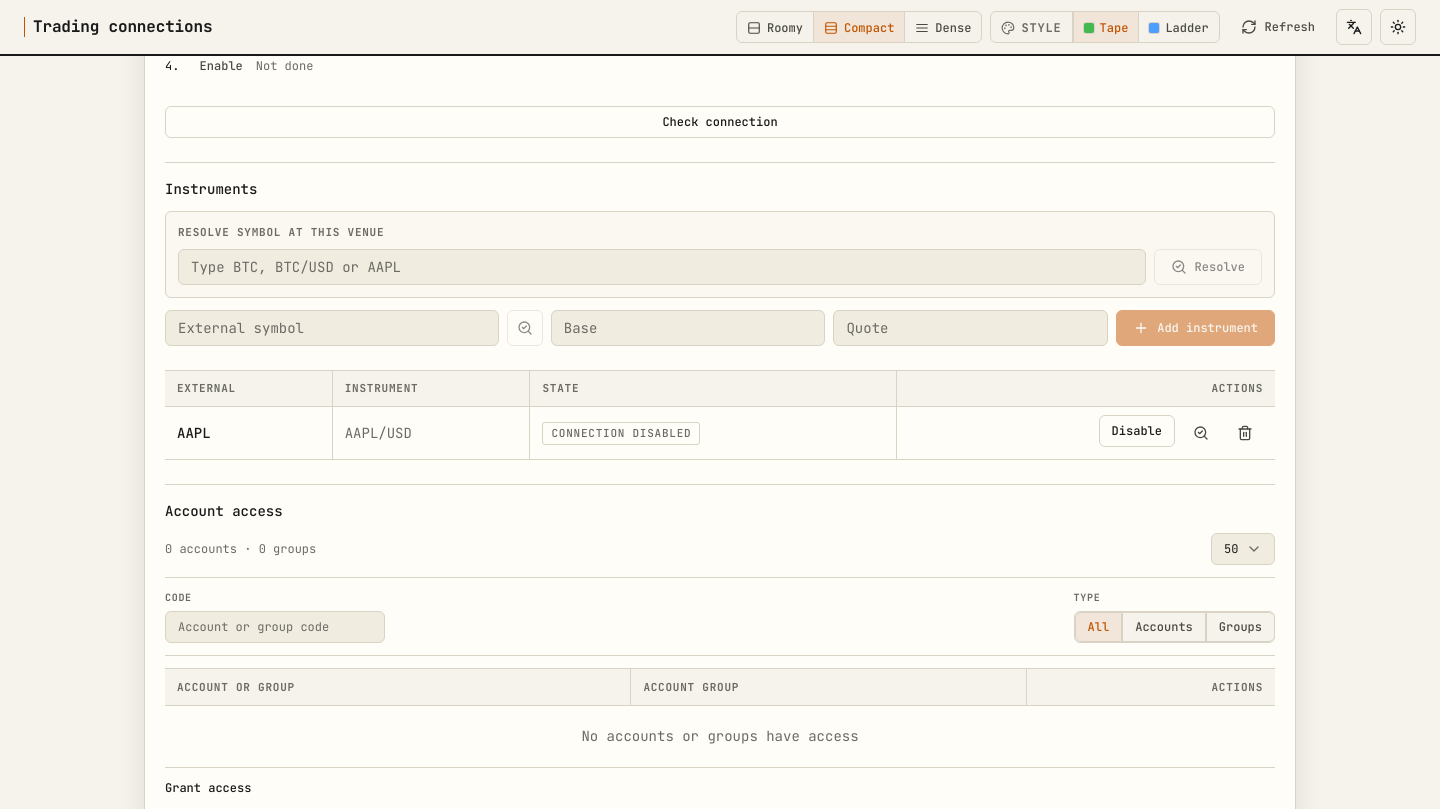
Scenario: Trading connections › forgets a failed row verdict when the deleted symbol is re-added
The image size is (1440, 809).
(page scrolled)
Click the button named "Verify symbol" in the row of "USD": (1201, 433) [1183,415,1219,451]
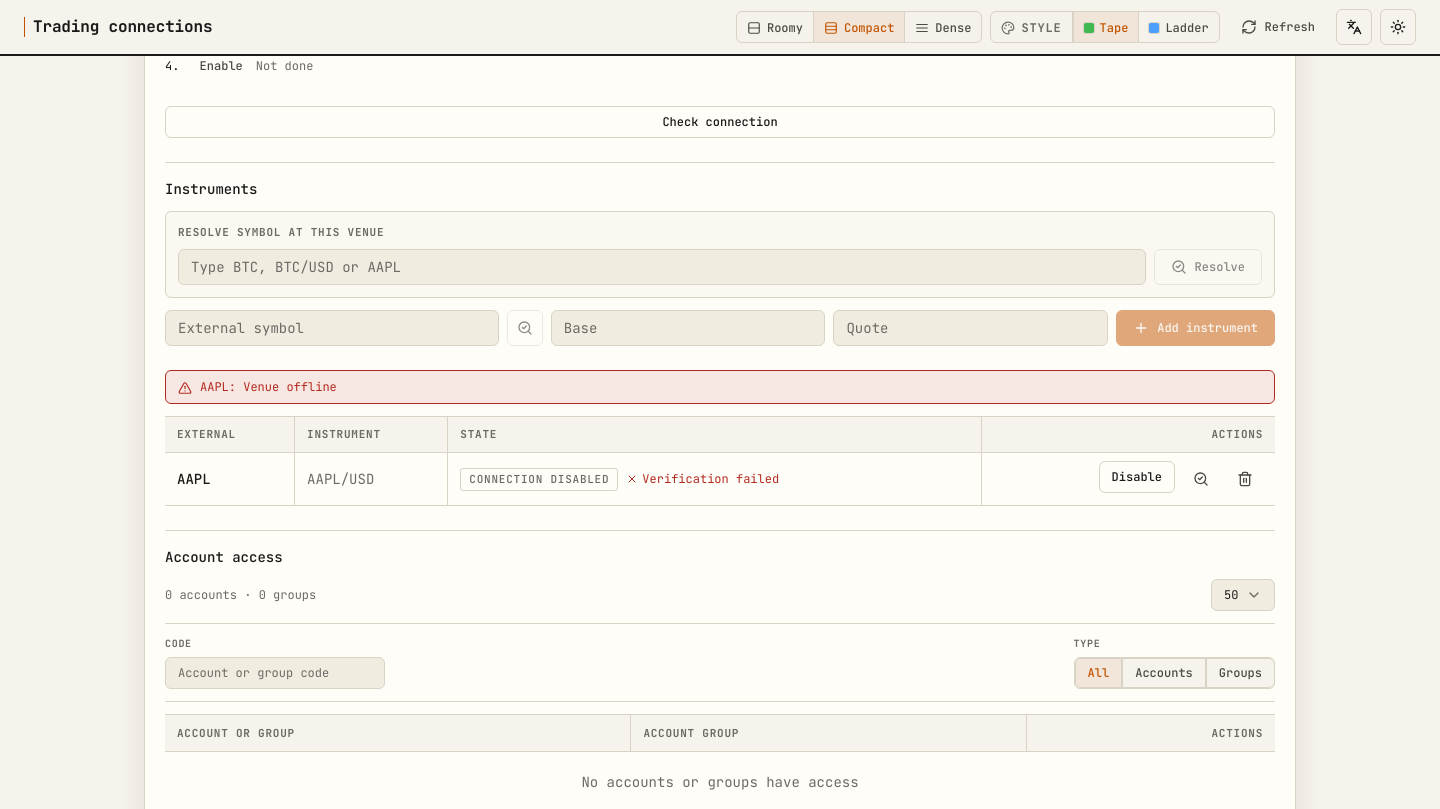
Check: the text "Verification failed" is shown, box [626,471,779,487]
Click the button named "Delete instrument": (1245, 479) [1227,461,1263,497]
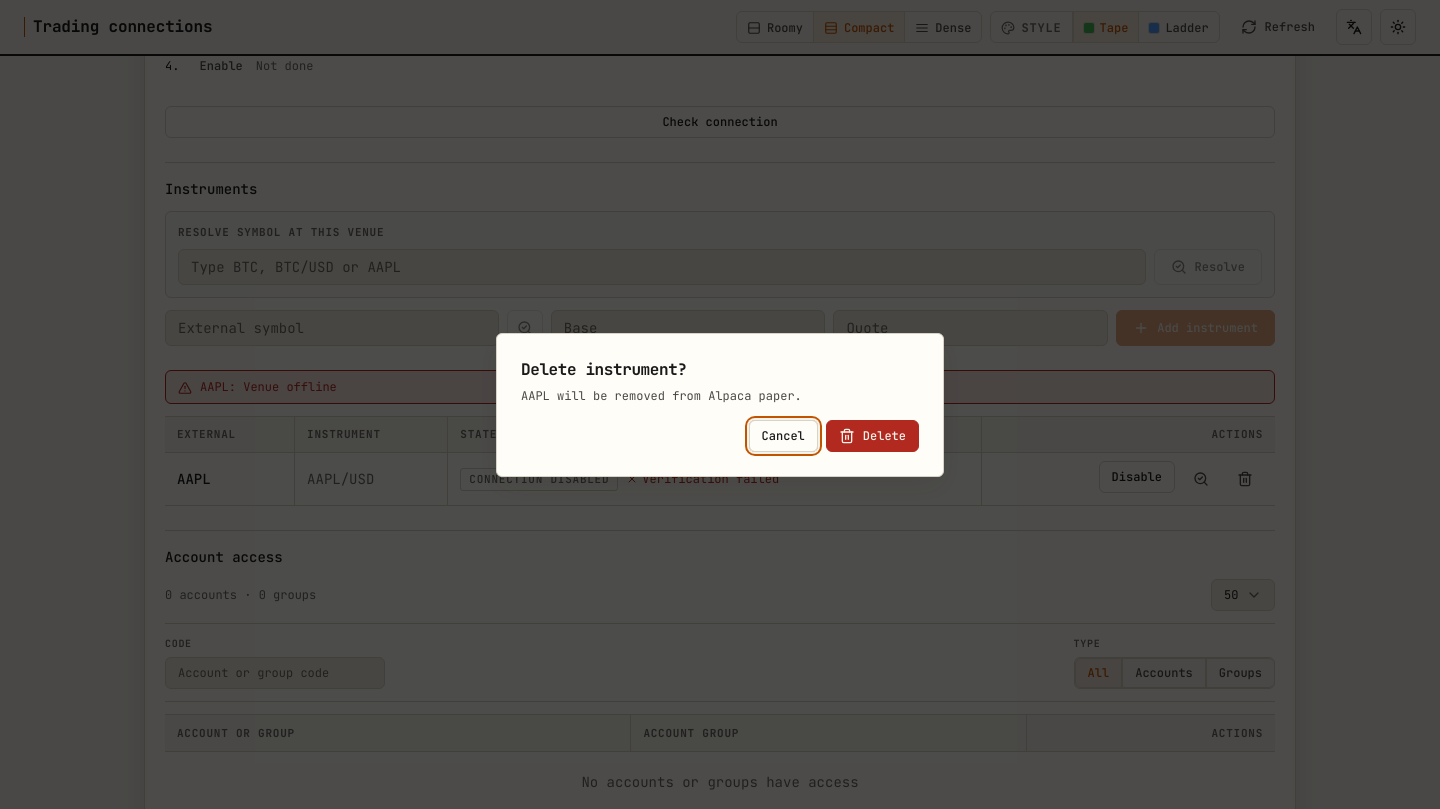
Click the button "Delete": (872, 436) [826,420,919,452]
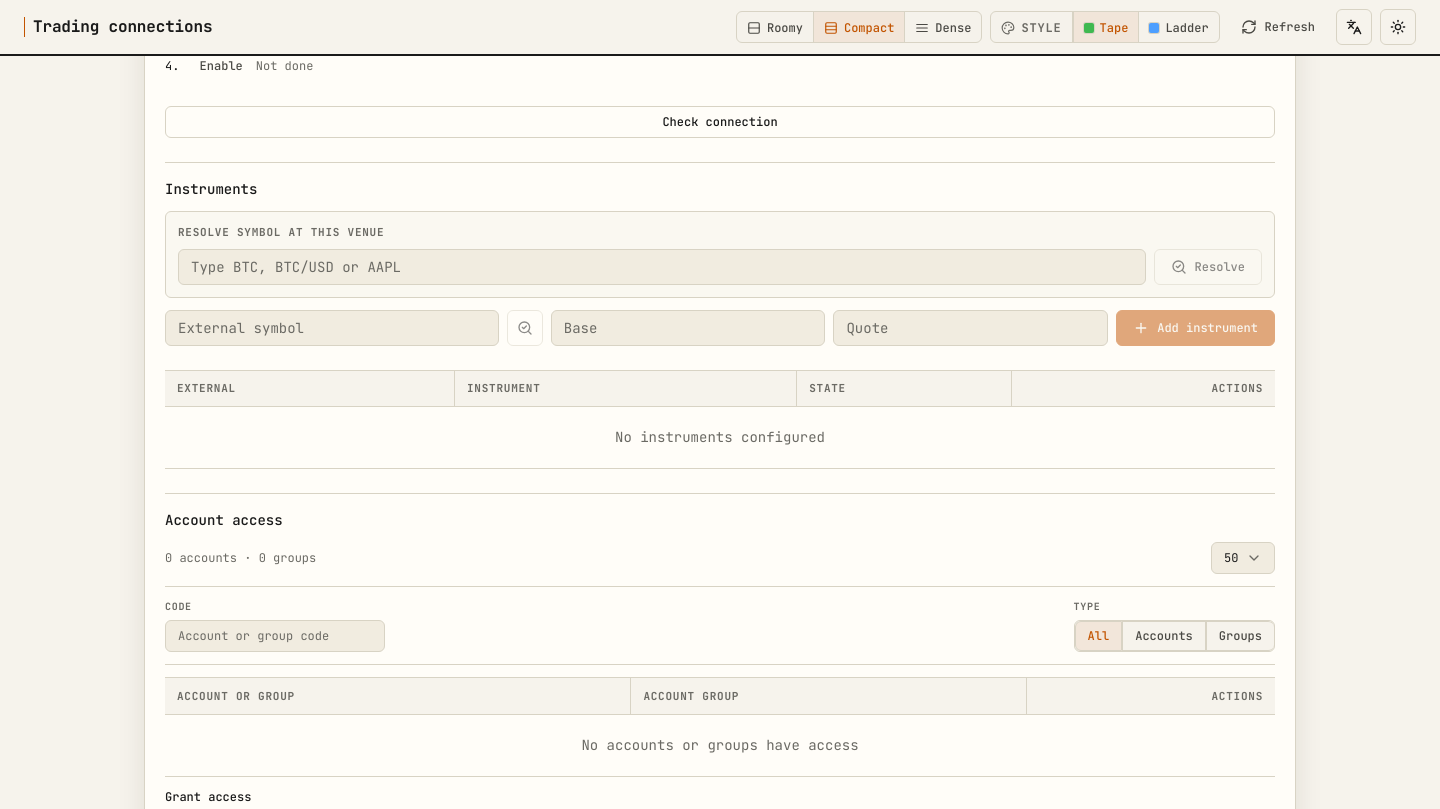
In the field with placeholder "External symbol": (332, 328) [165,310,499,346], type "AAPL"
In the dropdown with placeholder "Base": (688, 328) [551,310,825,346], type "AAPL"
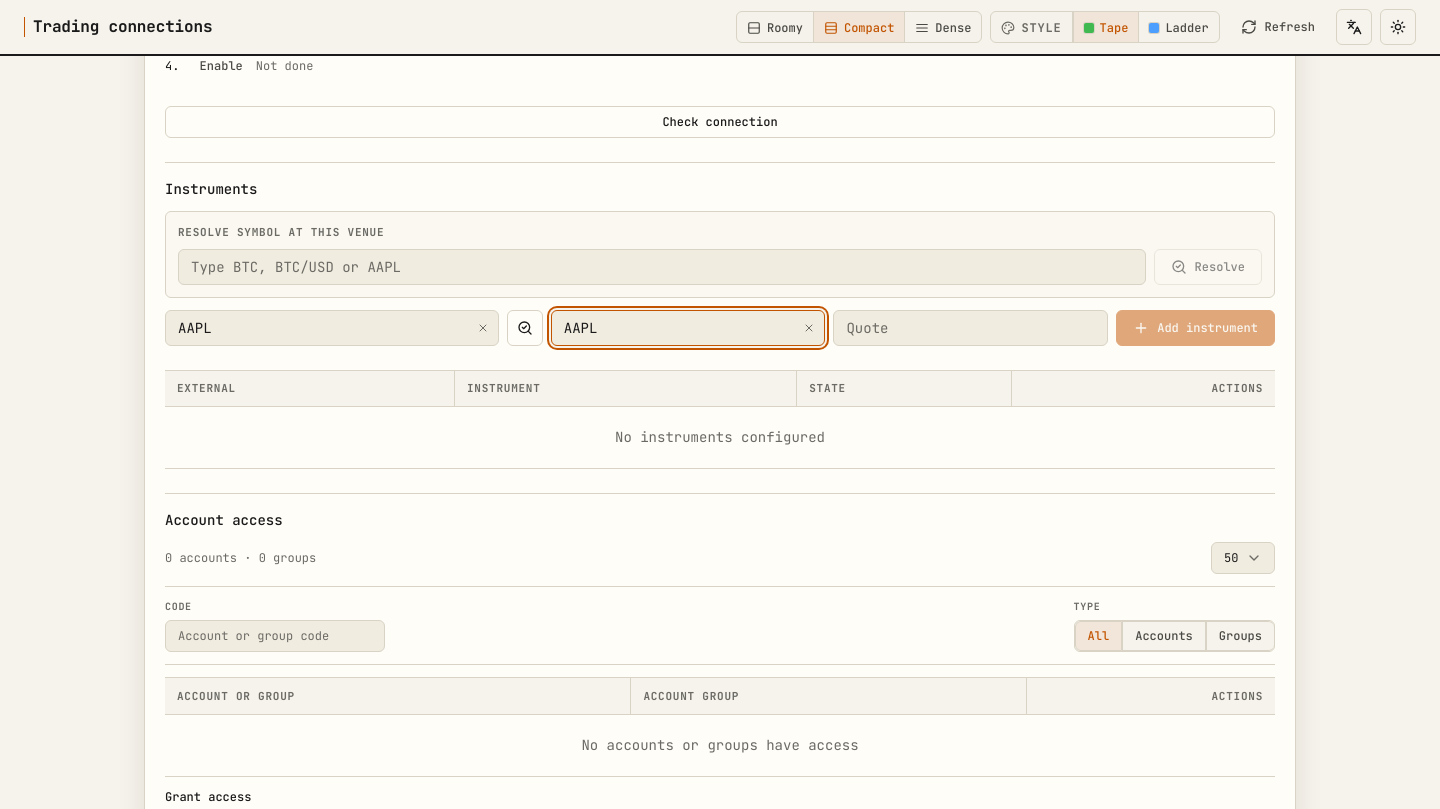
In the dropdown with placeholder "Quote": (971, 328) [834,310,1108,346], type "USD"
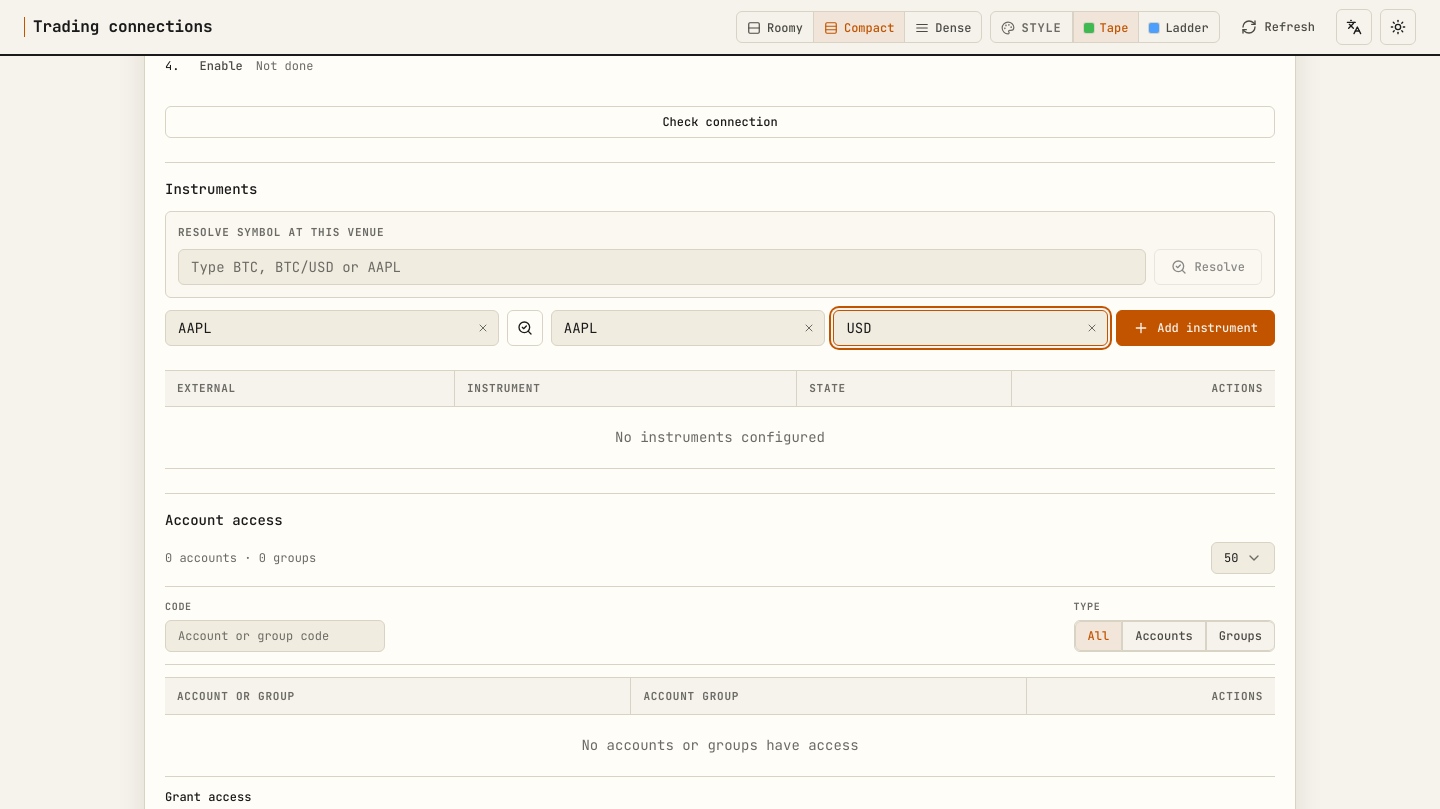
Click the button "Add instrument": (1196, 328) [1116,310,1275,346]
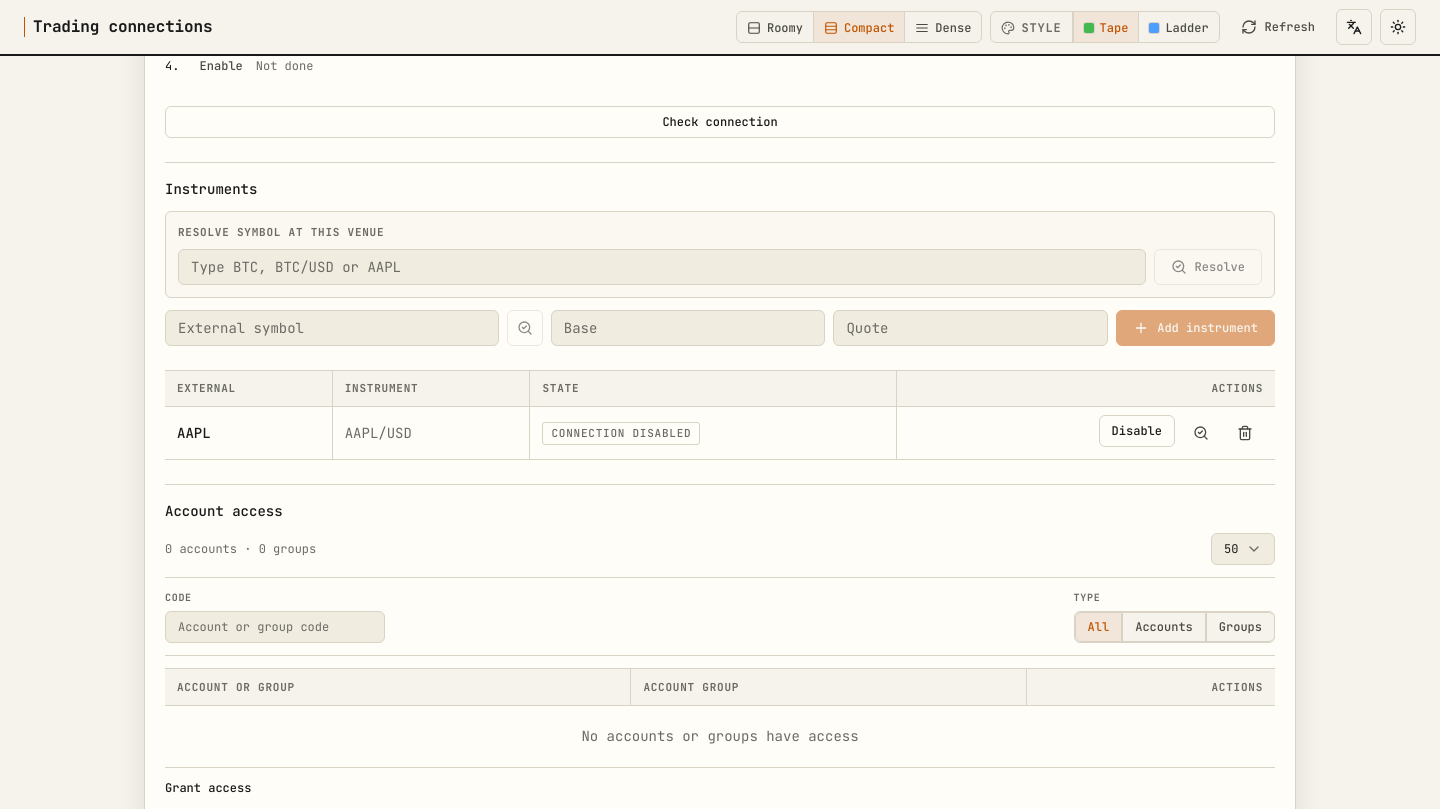
Check: the message "AAPL: Venue offline" is not shown
Check: the text "AAPL" is shown, box [177,424,211,442]
